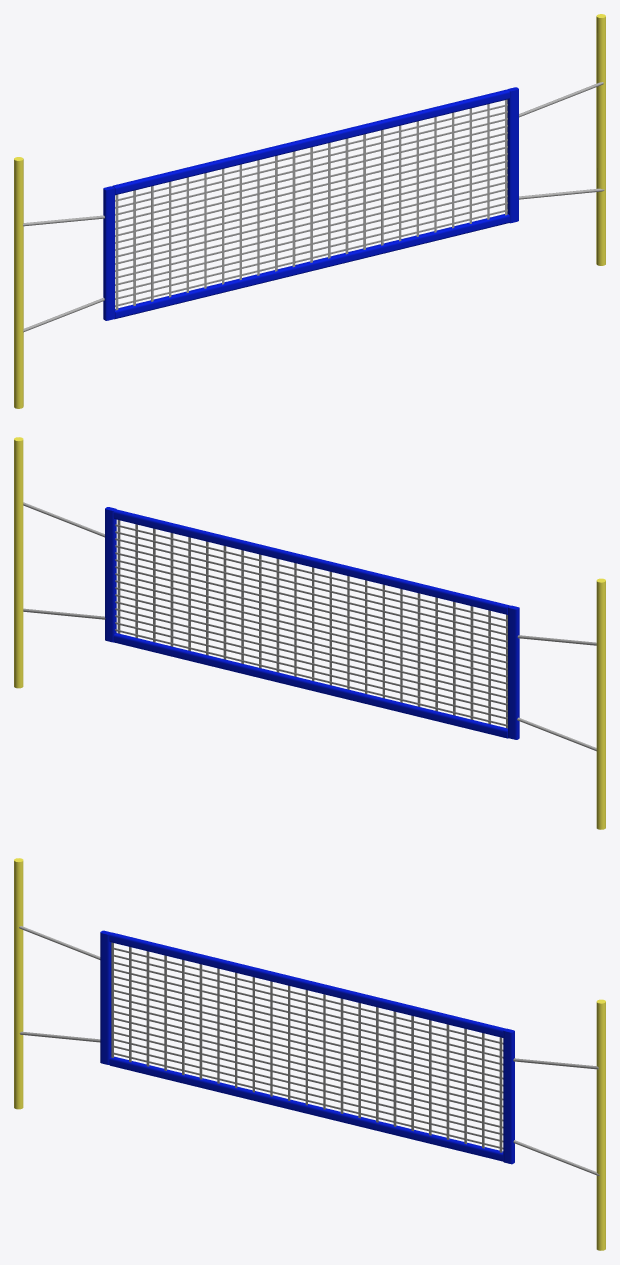
File: Voleyball_net (1).fbx
3 views of the same model, one above another, from view 1: azimuth 30°, elevation 25°; view 2: azimuth 150°, elevation 25°; view 3: azimuth 330°, elevation 25° (orthographic).
Visible parts, largest first — view 1: Cylinder, Cylinder.001, Cube, Cube.001, Cylinder.007, Cylinder.004, Cube.003, Cube.002; view 2: Cylinder, Cylinder.001, Cube, Cube.001, Cylinder.004, Cylinder.007, Cube.003, Cube.002; view 3: Cylinder, Cylinder.001, Cube, Cube.001, Cylinder.004, Cylinder.007, Cube.002, Cube.003.
Boxes of the visible parts, x1=… form: Cylinder: x1=115, y1=104, x2=507, y2=306; Cylinder.001: x1=115, y1=99, x2=507, y2=310; Cube: x1=112, y1=89, x2=509, y2=195; Cube.001: x1=114, y1=214, x2=509, y2=319; Cylinder.007: x1=14, y1=157, x2=23, y2=408; Cylinder.004: x1=596, y1=14, x2=605, y2=265; Cube.003: x1=103, y1=186, x2=114, y2=320; Cube.002: x1=507, y1=87, x2=518, y2=223; Cylinder: x1=115, y1=524, x2=507, y2=726; Cylinder.001: x1=117, y1=520, x2=507, y2=728; Cube: x1=113, y1=509, x2=509, y2=614; Cube.001: x1=113, y1=633, x2=508, y2=738; Cylinder.004: x1=14, y1=437, x2=23, y2=688; Cylinder.007: x1=596, y1=578, x2=605, y2=829; Cube.003: x1=508, y1=605, x2=519, y2=739; Cube.002: x1=105, y1=507, x2=116, y2=642; Cylinder: x1=114, y1=947, x2=503, y2=1149; Cylinder.001: x1=111, y1=942, x2=502, y2=1152; Cube: x1=109, y1=932, x2=505, y2=1037; Cube.001: x1=109, y1=1056, x2=503, y2=1161; Cylinder.004: x1=596, y1=999, x2=605, y2=1250; Cylinder.007: x1=14, y1=858, x2=23, y2=1109; Cube.002: x1=503, y1=1028, x2=514, y2=1164; Cube.003: x1=100, y1=930, x2=111, y2=1064.
Bounding box in the file's own units: 854 × 342 × 15.57.
